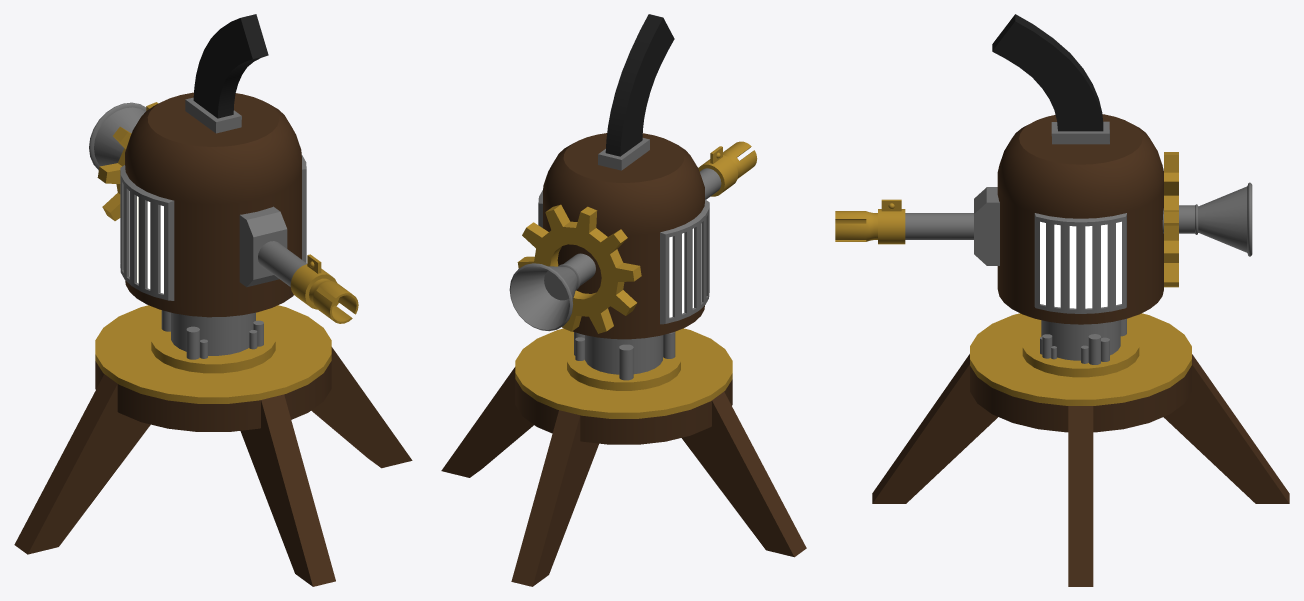
Rendered from Normal_Turret.fbx.
The picture shows the model from 3 angles, left to right: view 1: azimuth 30°, elevation 25°; view 2: azimuth 150°, elevation 25°; view 3: azimuth 270°, elevation 25°; orthographic projection. The views are drawn at different scales.
Visible parts, largest first — view 1: Corpo.003, Pes, Base.002, Carregador.001, Cano.001, BaseCano.001, Liga, Chamine.001, Engrenagem.002, Cilindros.002; view 2: Corpo.003, Pes, Base.002, Engrenagem.002, Carregador.001, Chamine.001, Liga, Cano.001, Cilindros.002; view 3: Corpo.003, Base.002, Pes, Carregador.001, Cano.001, Chamine.001, Engrenagem.002, Liga, BaseCano.001, Cilindros.002.
Boxes of the visible parts, box(x1,y1,x2,y2) form: Corpo.003: box(120, 92, 306, 317); Pes: box(14, 347, 412, 586); Base.002: box(95, 305, 331, 431); Carregador.001: box(185, 14, 268, 133); Cano.001: box(258, 241, 358, 323); BaseCano.001: box(239, 206, 287, 287); Liga: box(171, 312, 255, 355); Chamine.001: box(89, 102, 146, 170); Engrenagem.002: box(97, 102, 158, 220); Cilindros.002: box(161, 310, 263, 359); Corpo.003: box(538, 133, 709, 339); Pes: box(441, 367, 806, 586); Base.002: box(515, 328, 732, 444); Engrenagem.002: box(517, 204, 641, 333); Carregador.001: box(598, 14, 674, 170); Chamine.001: box(509, 253, 595, 331); Liga: box(585, 335, 662, 374); Cano.001: box(698, 141, 757, 199); Cilindros.002: box(574, 332, 675, 380); Corpo.003: box(997, 114, 1163, 324); Base.002: box(970, 313, 1191, 432); Pes: box(872, 354, 1289, 586); Carregador.001: box(992, 14, 1109, 144); Cano.001: box(835, 199, 973, 244); Chamine.001: box(1162, 182, 1252, 256); Engrenagem.002: box(1164, 152, 1178, 287); Liga: box(1041, 320, 1120, 360); BaseCano.001: box(974, 187, 999, 265); Cilindros.002: box(1040, 318, 1126, 364).
Size of the model in its own units: 200 by 255 by 218.
